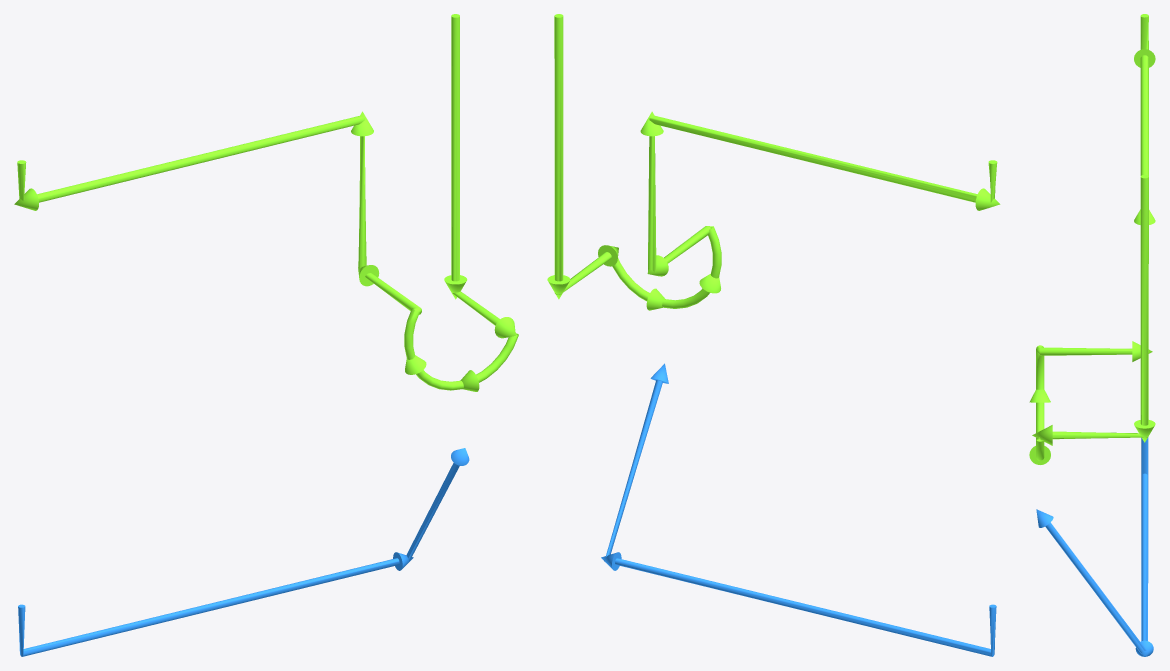
Rendered from liquid_ring_vacuum_pump_flow.glb.
The picture shows the model from 3 angles, left to right: view 1: azimuth 30°, elevation 25°; view 2: azimuth 150°, elevation 25°; view 3: azimuth 270°, elevation 25°; orthographic projection. The views are drawn at different scales.
Visible parts, largest first — view 1: gas, service_liquid; view 2: gas, service_liquid; view 3: gas, service_liquid.
Part boxes in pixels (x1,y1,x2,y2): gas: (14,14,518,391); service_liquid: (18,448,469,656); gas: (547,14,1000,310); service_liquid: (601,363,996,656); gas: (1029,14,1155,464); service_liquid: (1036,437,1153,656).
Size of the model in its own units: 0.7026 by 0.803 by 0.1812.
